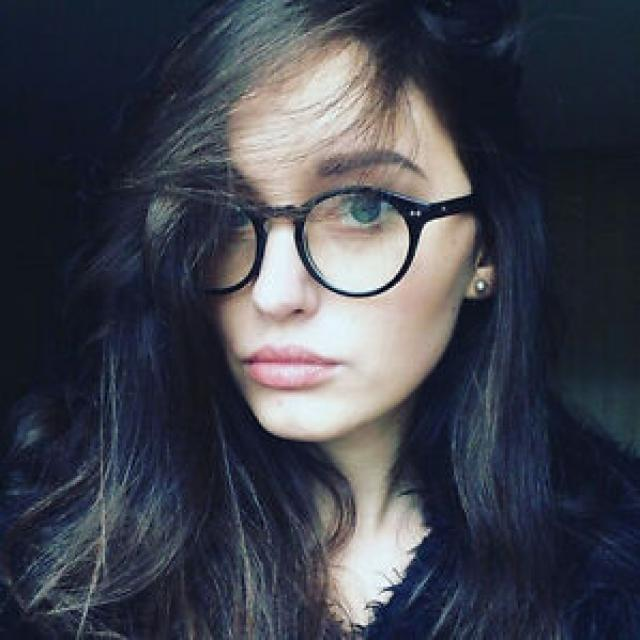Glasses: (186, 182, 477, 302)
